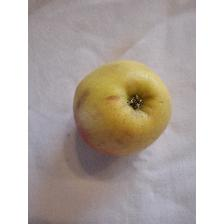Apfel: (70, 58, 172, 158)
